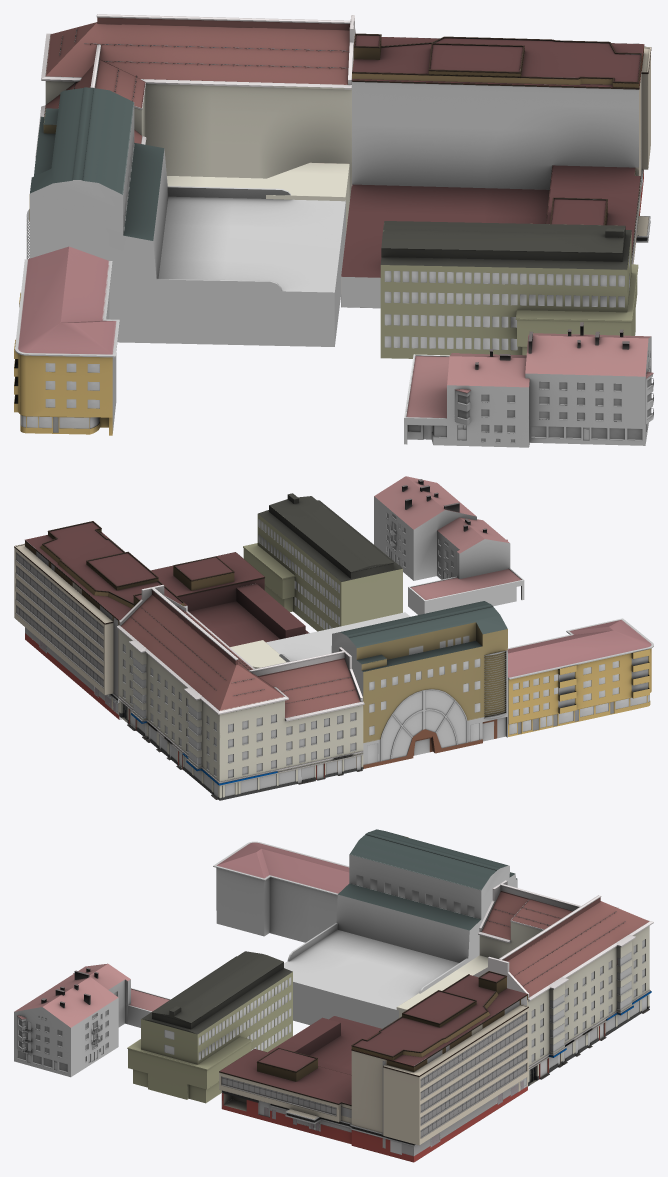
3 views of the same model, one above another, from view 1: azimuth 30°, elevation 25°; view 2: azimuth 150°, elevation 25°; view 3: azimuth 270°, elevation 25° (orthographic). The views are drawn at different scales.
Parts seen in each view (by area): view 1: pakkahuoneenkatu_22, Isokatu23, pakkahuoneenkatu_18, uusikatu_28, Kauppurienkatu19, Kauppurienkatu17; view 2: pakkahuoneenkatu_18, pakkahuoneenkatu_22, Isokatu23, uusikatu_28, Kauppurienkatu19, Kauppurienkatu17; view 3: pakkahuoneenkatu_22, Isokatu23, pakkahuoneenkatu_18, uusikatu_28, Kauppurienkatu19, Kauppurienkatu17.
Part boxes in pixels (left/top/right/bottom): pakkahuoneenkatu_22: left=341, top=33, right=651, bottom=308; Isokatu23: left=26, top=87, right=345, bottom=346; pakkahuoneenkatu_18: left=35, top=14, right=355, bottom=233; uusikatu_28: left=380, top=221, right=638, bottom=358; Kauppurienkatu19: left=404, top=322, right=653, bottom=447; Kauppurienkatu17: left=14, top=246, right=119, bottom=435; pakkahuoneenkatu_18: left=117, top=585, right=364, bottom=800; pakkahuoneenkatu_22: left=14, top=521, right=309, bottom=719; Isokatu23: left=266, top=601, right=507, bottom=768; uusikatu_28: left=243, top=493, right=402, bottom=631; Kauppurienkatu19: left=374, top=476, right=524, bottom=614; Kauppurienkatu17: left=507, top=618, right=653, bottom=736; pakkahuoneenkatu_22: left=219, top=971, right=528, bottom=1162; Isokatu23: left=284, top=829, right=517, bottom=1028; pakkahuoneenkatu_18: left=396, top=880, right=653, bottom=1086; uusikatu_28: left=127, top=951, right=292, bottom=1103; Kauppurienkatu19: left=14, top=963, right=170, bottom=1077; Kauppurienkatu17: left=213, top=841, right=349, bottom=942.
Size of the model in its own units: 13171 by 2867 by 13626.
